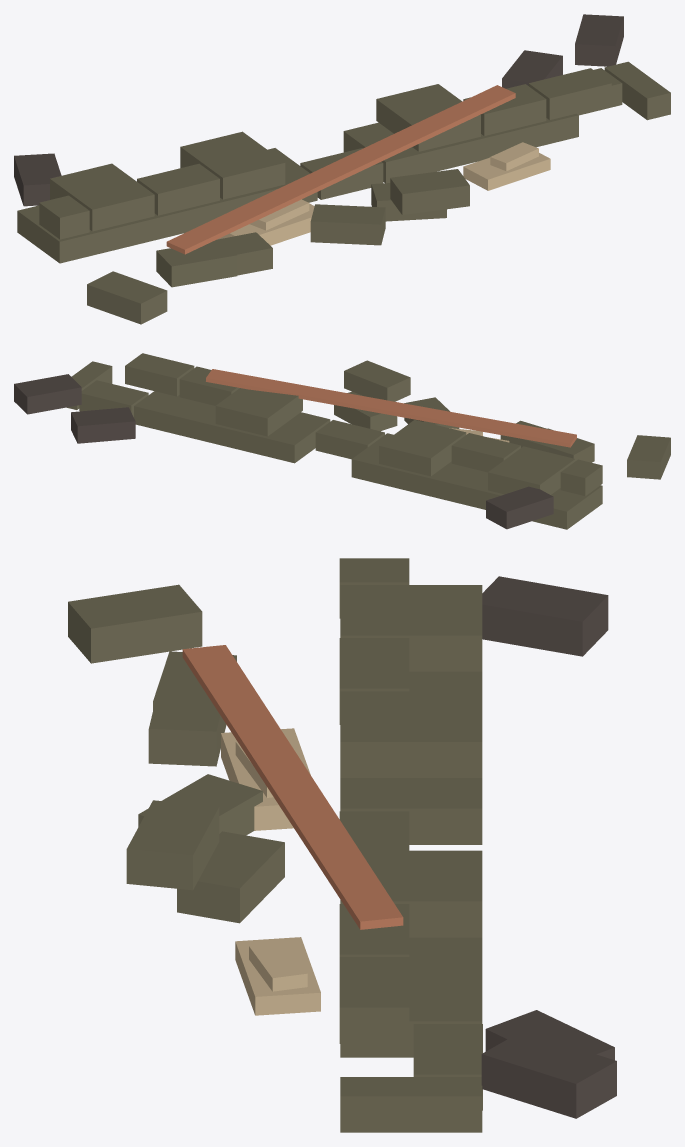
Rendered from SM_MuroSacos_v3_Tablon_e2_MuyDanado_LOD1.fbx.
3 renders of one model, top to bottom at view 1: azimuth 30°, elevation 25°; view 2: azimuth 150°, elevation 25°; view 3: azimuth 270°, elevation 25°, orthographic. The views are drawn at different scales.
Visible parts, largest first — view 1: SM_bloques.muro_sacos_estados_v14_LOD1; view 2: SM_bloques.muro_sacos_estados_v14_LOD1; view 3: SM_bloques.muro_sacos_estados_v14_LOD1.
Part boxes in pixels (x1,y1,x2,y2): SM_bloques.muro_sacos_estados_v14_LOD1: (14, 14, 670, 324); SM_bloques.muro_sacos_estados_v14_LOD1: (14, 353, 670, 529); SM_bloques.muro_sacos_estados_v14_LOD1: (68, 558, 616, 1132).
Bounding box in the file's own units: 8.54 × 0.6799 × 3.71.
